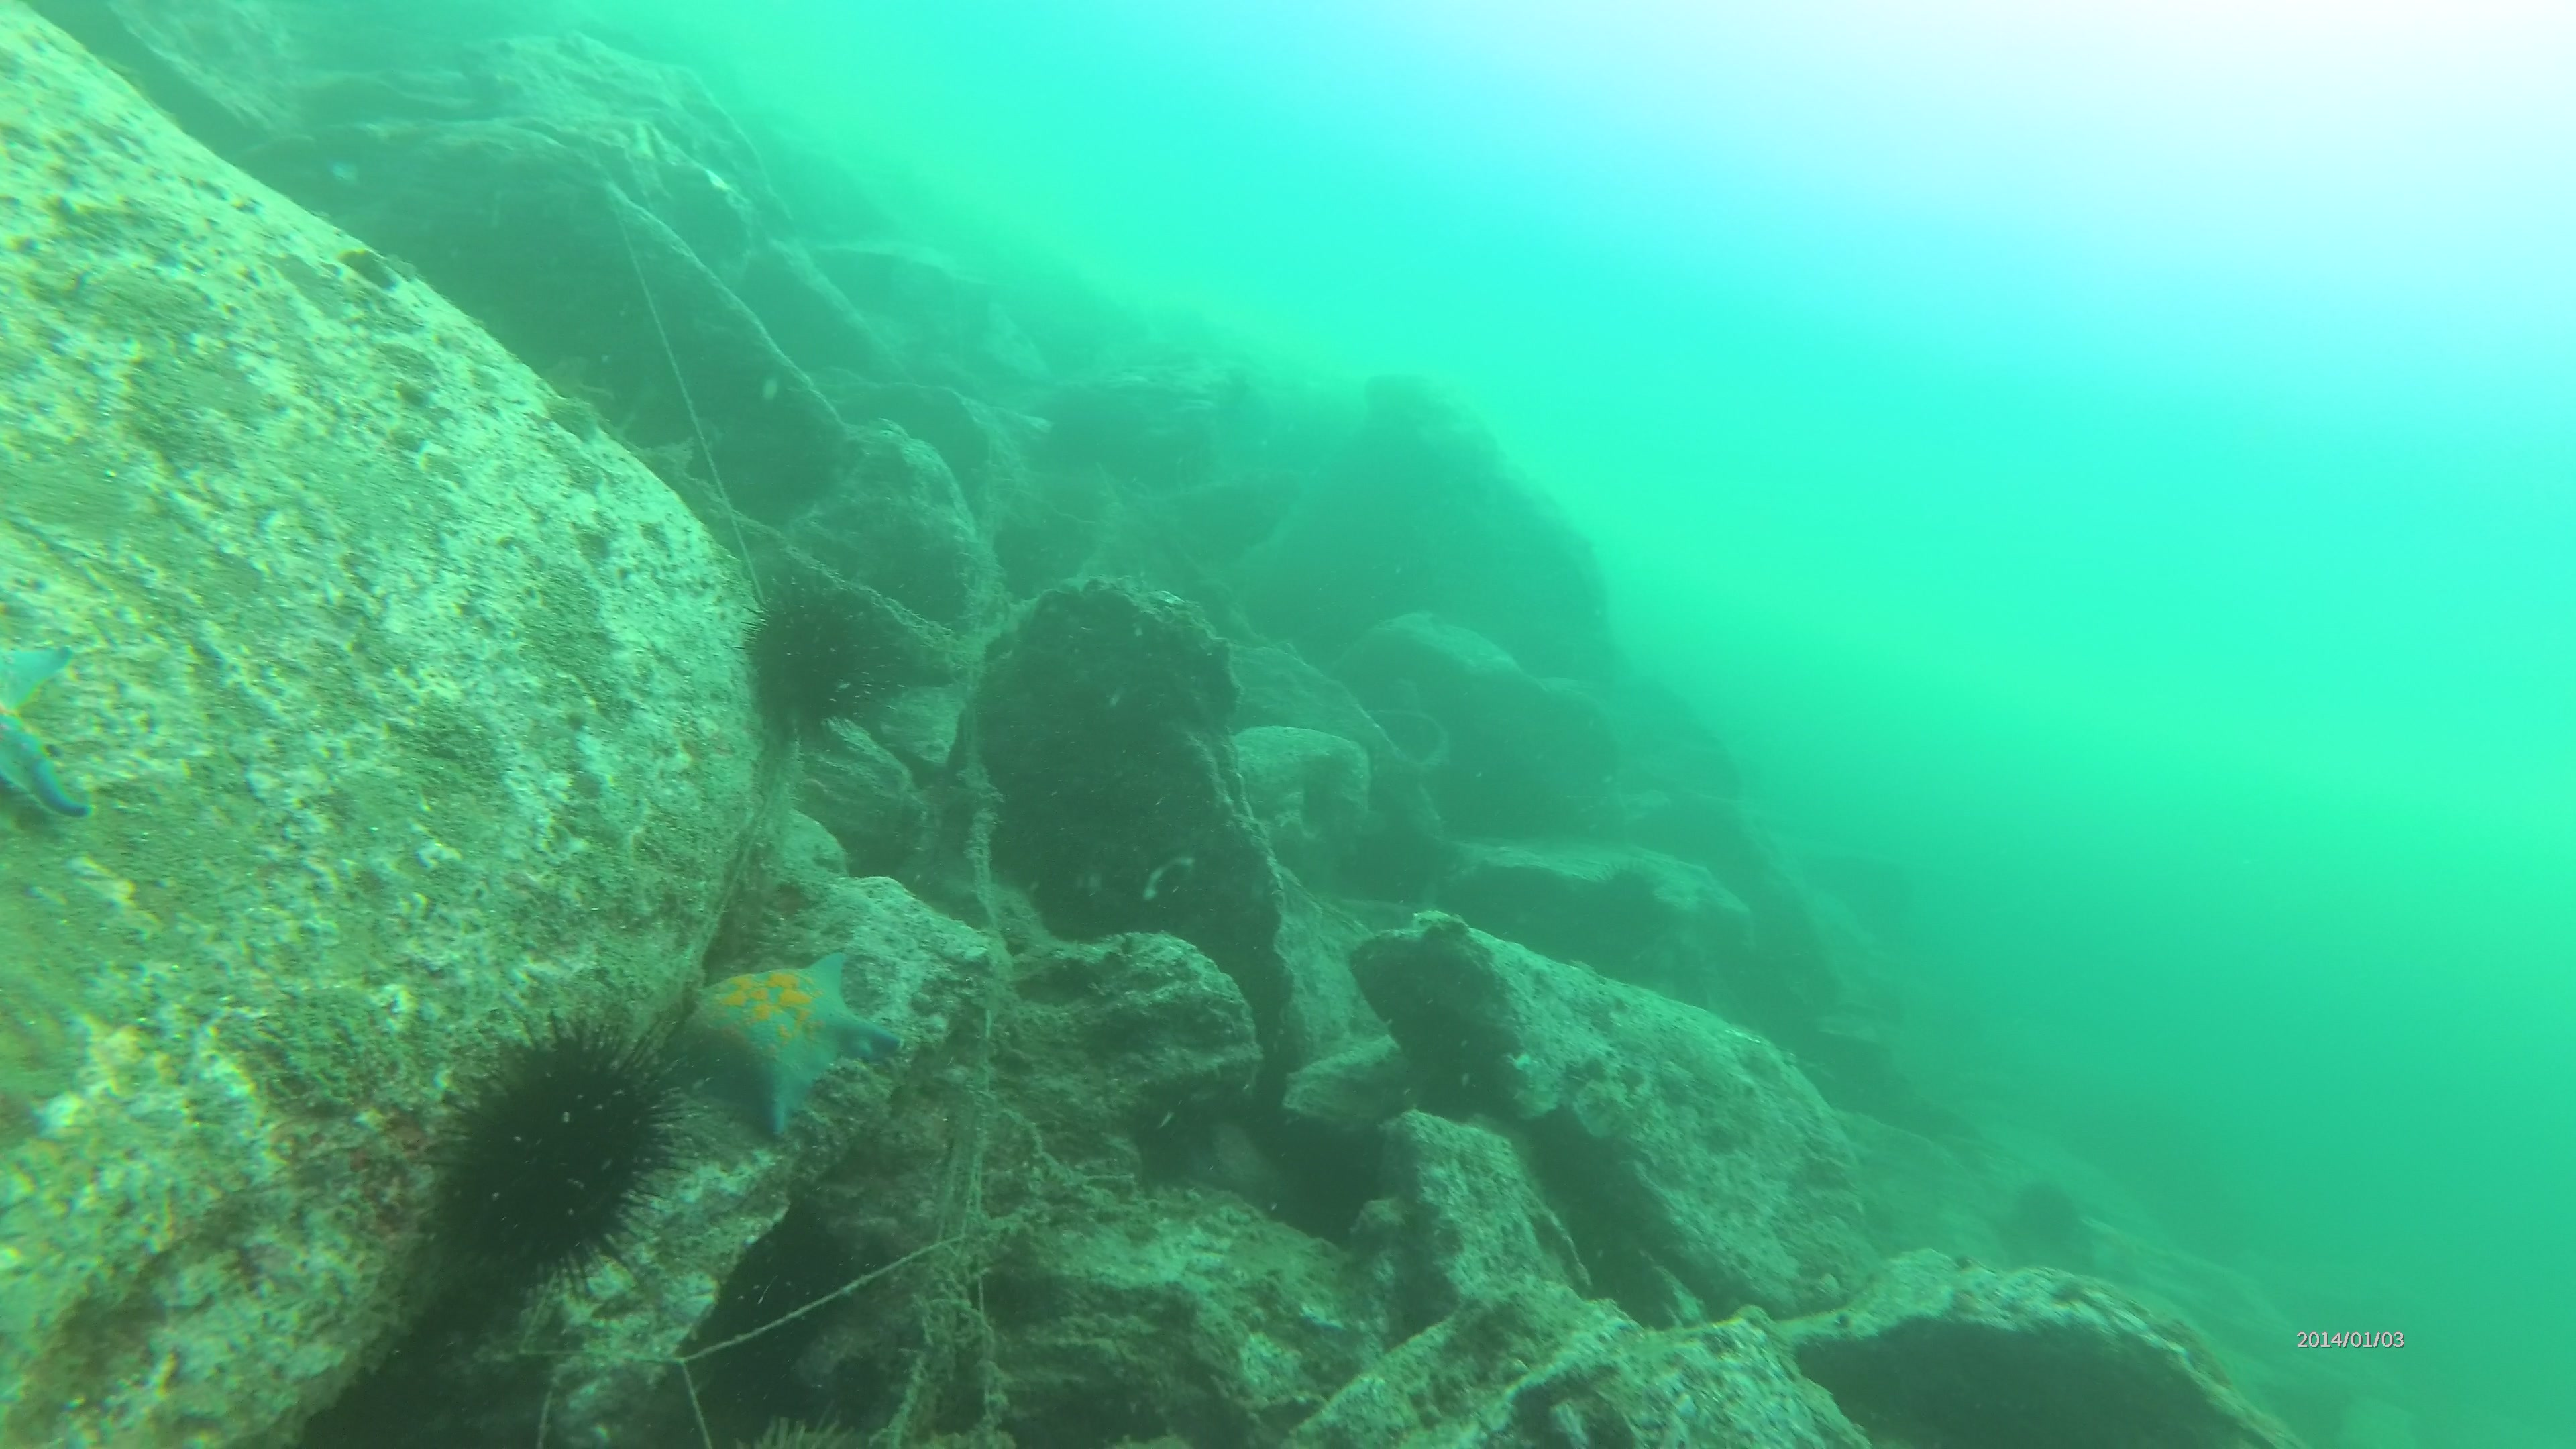echinus: (446, 1017, 678, 1284), (750, 591, 879, 741)
starfish: (690, 955, 899, 1139), (2, 621, 99, 849)
